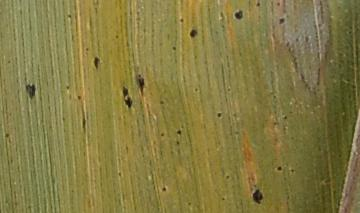tarspot: (251, 189, 270, 205), (137, 73, 147, 97), (230, 9, 247, 21), (121, 95, 135, 109), (26, 84, 38, 100), (92, 55, 103, 72), (122, 87, 132, 99), (189, 28, 199, 40), (278, 16, 287, 27), (216, 111, 224, 120), (276, 165, 283, 172), (179, 17, 186, 24), (177, 129, 183, 136), (171, 46, 179, 51), (255, 2, 263, 7), (162, 186, 168, 192), (67, 13, 73, 19), (5, 132, 12, 137), (159, 132, 166, 137), (77, 94, 81, 100)
